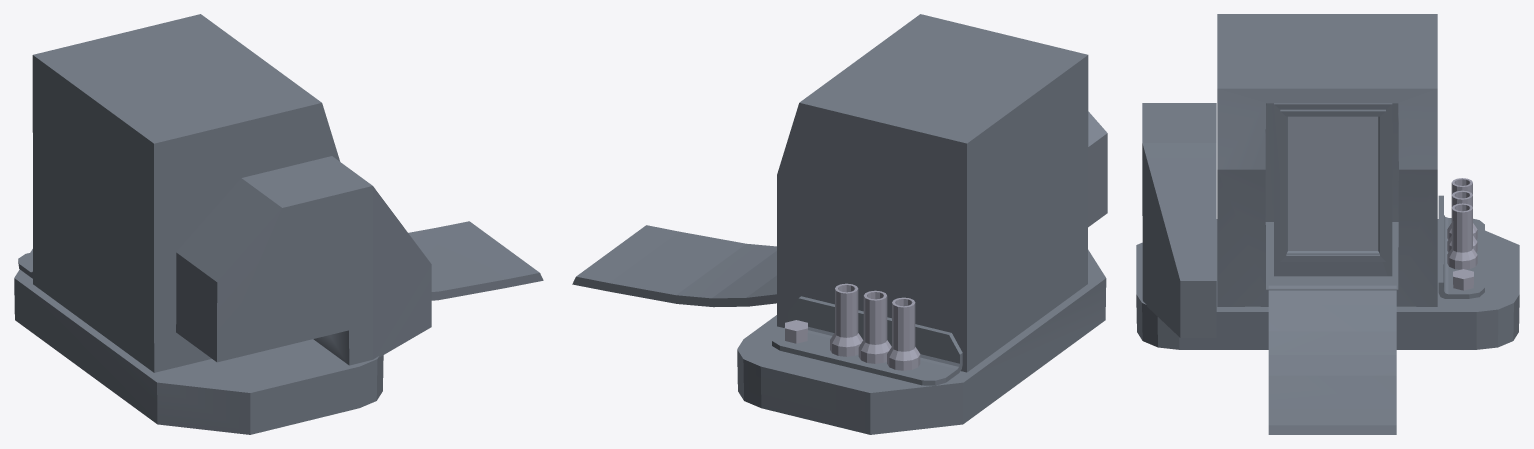
Rendered from box_001_type87-arv.fbx.
The picture shows the model from 3 angles, left to right: view 1: azimuth 30°, elevation 25°; view 2: azimuth 150°, elevation 25°; view 3: azimuth 270°, elevation 25°; orthographic projection. The views are drawn at different scales.
Parts seen in each view (by area): view 1: box.001.type87-arv; view 2: box.001.type87-arv; view 3: box.001.type87-arv.
Part boxes in pixels (x1,y1,x2,y2): box.001.type87-arv: (14, 14, 543, 434); box.001.type87-arv: (572, 14, 1107, 434); box.001.type87-arv: (1136, 14, 1519, 434).
Bounding box in the file's own units: 1.5 × 0.9168 × 1.29.
